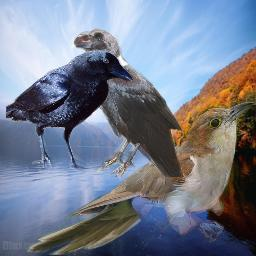Crow: (71, 28, 185, 177), (6, 50, 133, 172)
Cuckoo: (26, 100, 256, 255)
